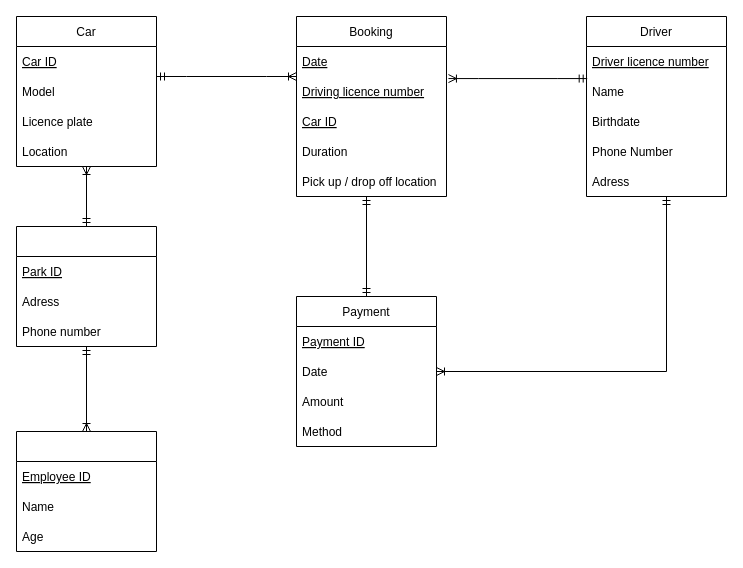
This 743x568 diagram has some shape labels left out. Here are the shapes that lost their labels. From the top down, the box of each, then its label:
(16, 226, 156, 346): Car Park
(16, 430, 156, 552): Employees
